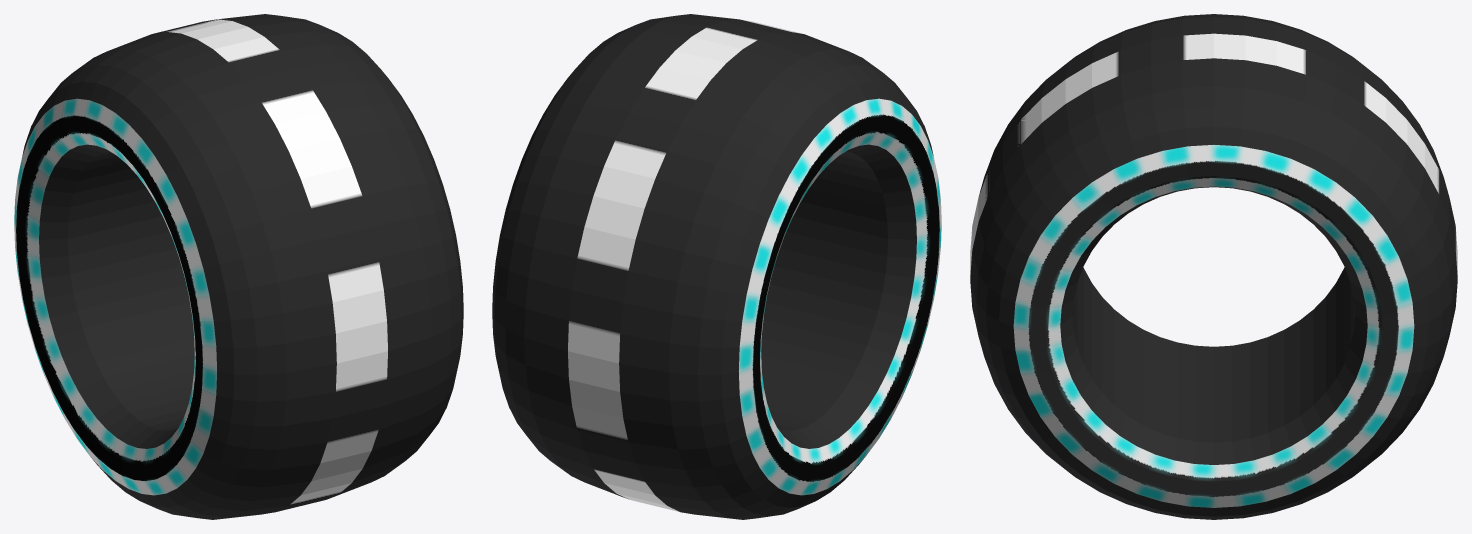
Rendered from Tire.obj.
3 views of the same model, side by side, from view 1: azimuth 30°, elevation 25°; view 2: azimuth 150°, elevation 25°; view 3: azimuth 270°, elevation 25° (orthographic).
Visible parts, largest first — view 1: Tire; view 2: Tire; view 3: Tire.
Boxes of the visible parts, x1,y1,x2,y2 form: Tire: (14,14,463,519); Tire: (492,14,941,519); Tire: (970,14,1457,519).
Size of the model in its own units: 0.6 by 0.9915 by 0.9915.
1 material, 1 textured.
